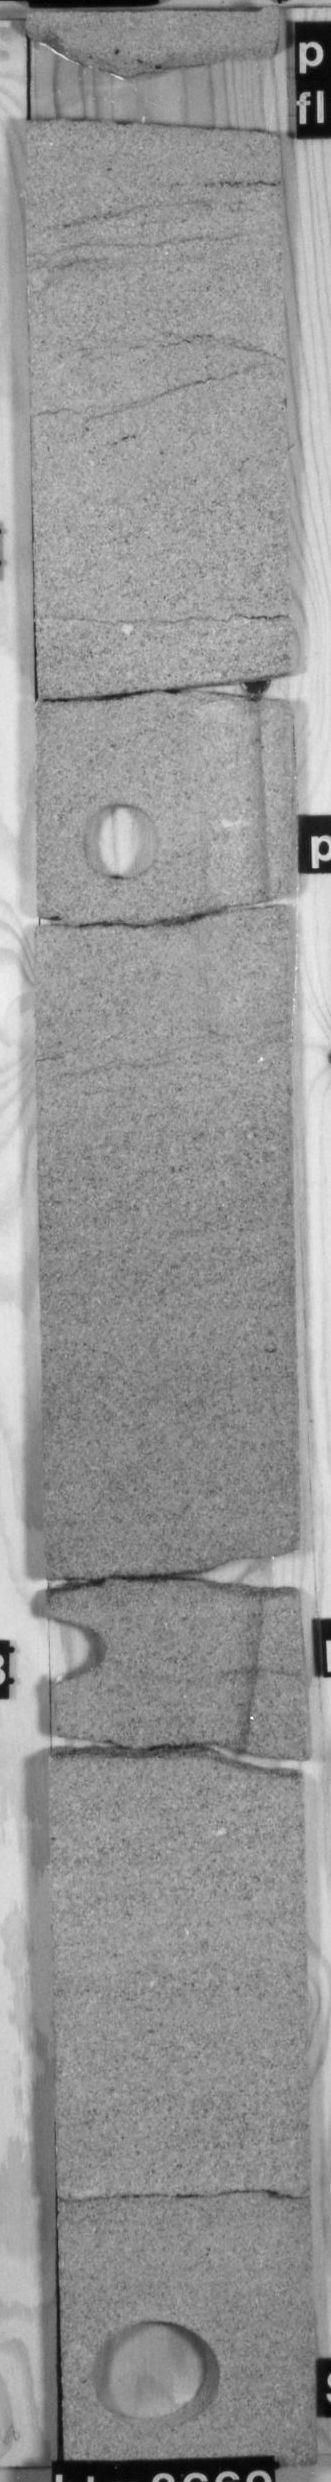hplug: (21, 24, 279, 147), (63, 788, 165, 899), (44, 1608, 124, 1698)
scal: (78, 2311, 238, 2442)
vplug: (154, 1586, 279, 1770), (173, 696, 272, 924)
